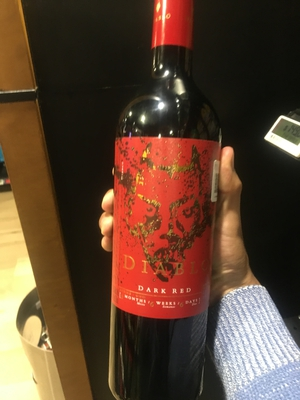diablo dark red: (106, 19, 257, 400)
